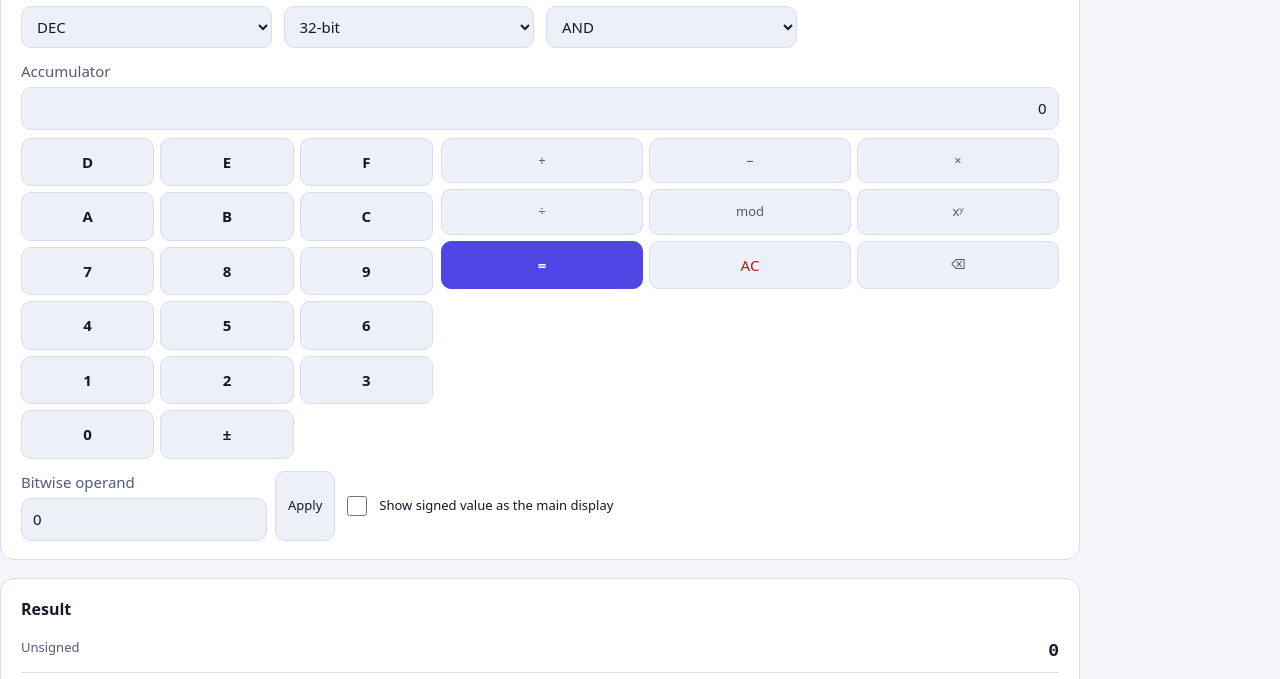
Scenario: programmer panel › wraps results to the selected width and says so
Select "8-bit" in the dropdown labelled "Bit width": [409, 26] box [284,6,534,48]
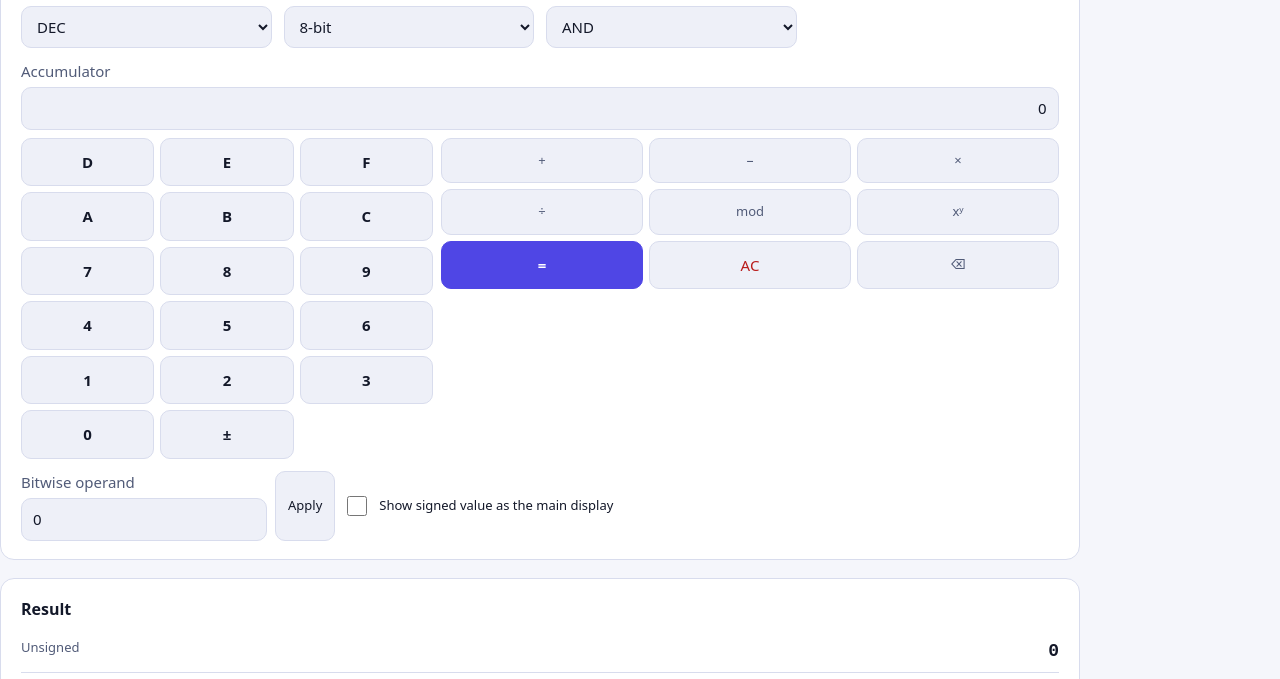
Replace the text in the field named "Integer input" with "200": [540, 108] box [21,87,1059,130]
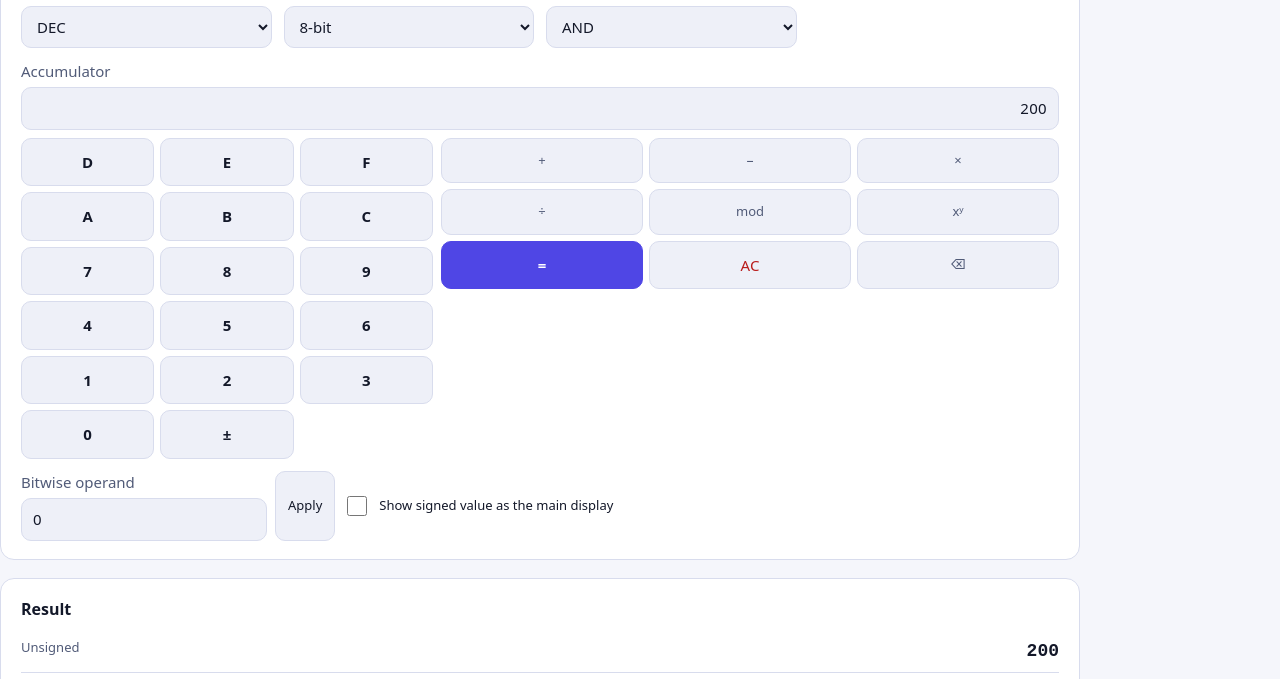
Click the button "+": [542, 160] box [441,138,643,183]
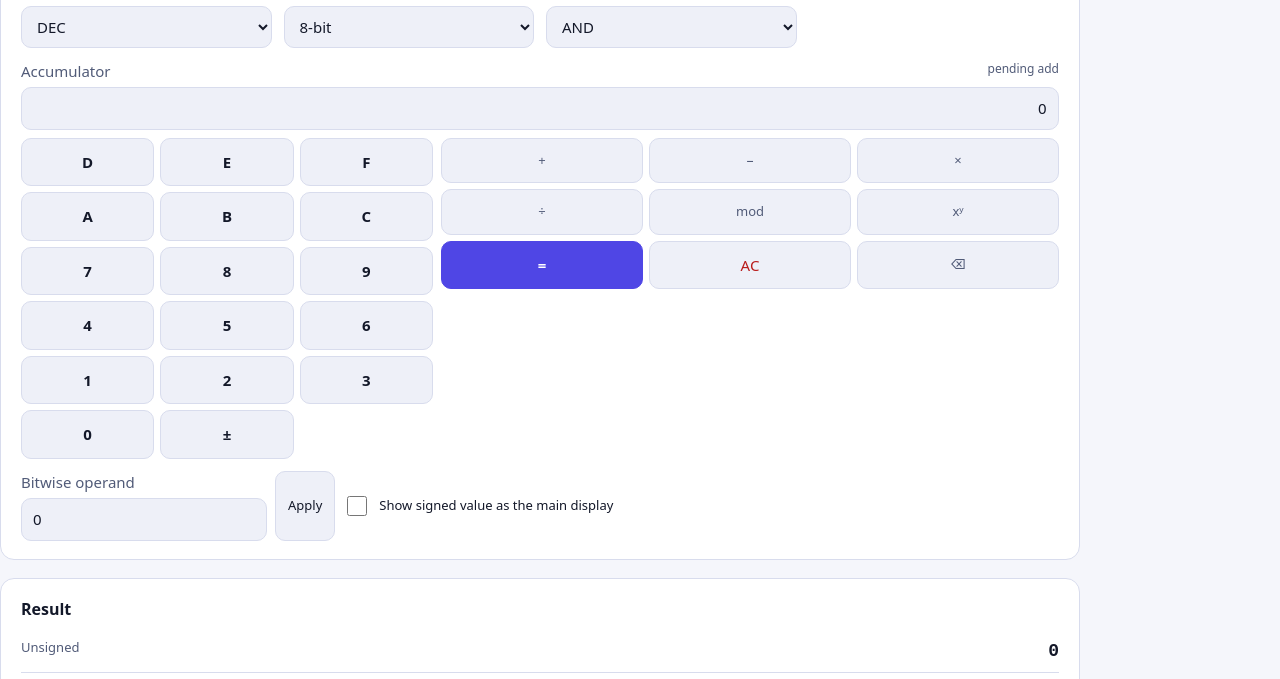
Replace the text in the field named "Integer input" with "100": [540, 108] box [21,87,1059,130]
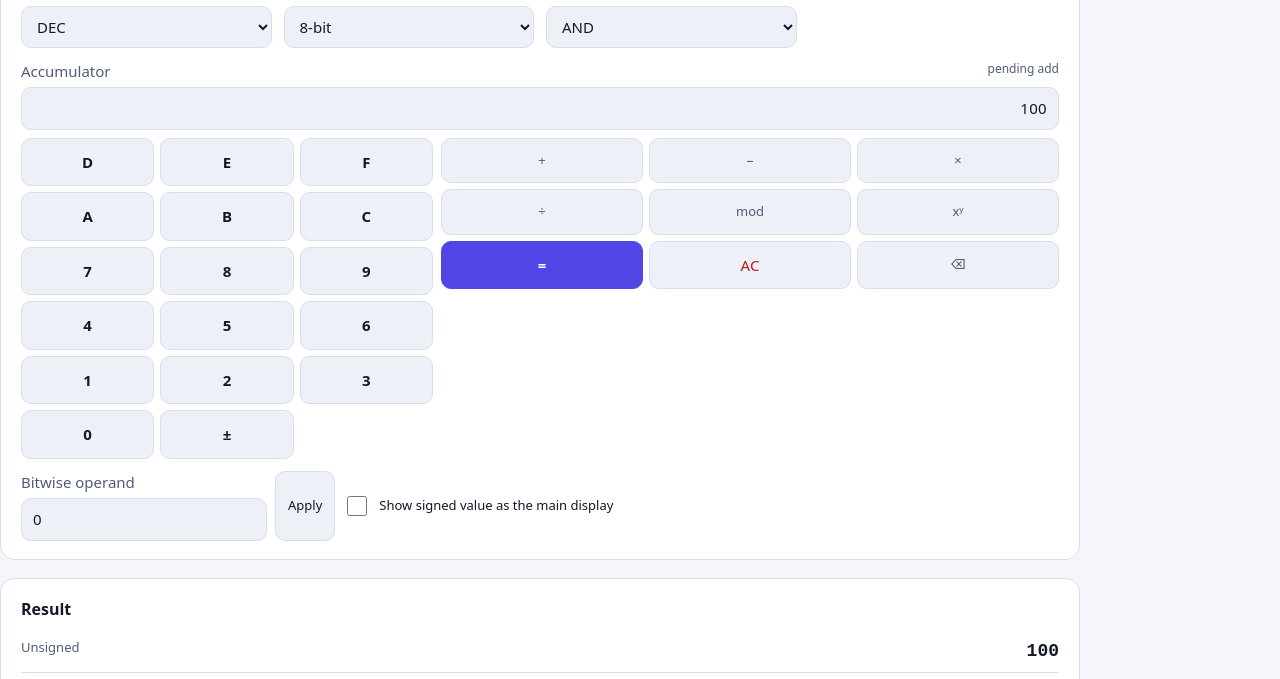
Click the button named "Evaluate": [542, 265] box [441,240,643,289]
(page scrolled)
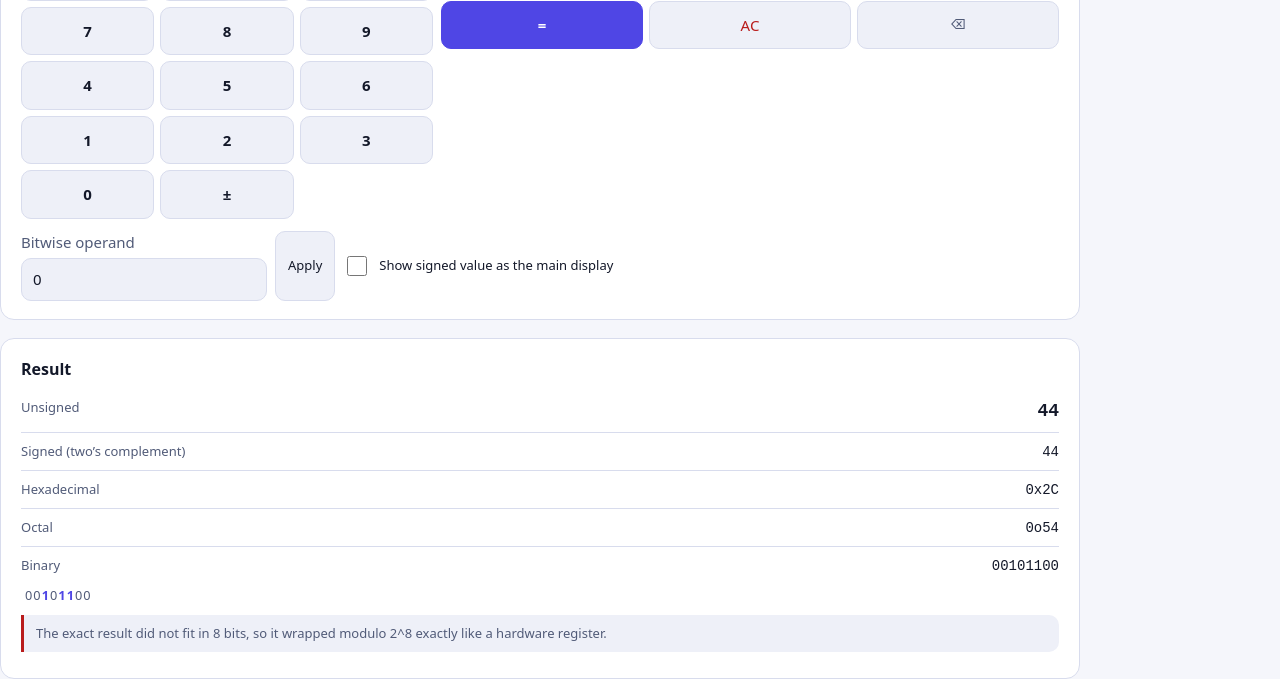
Now the text "did not fit in 8 bits" is shown, box [21,615,1059,652]
